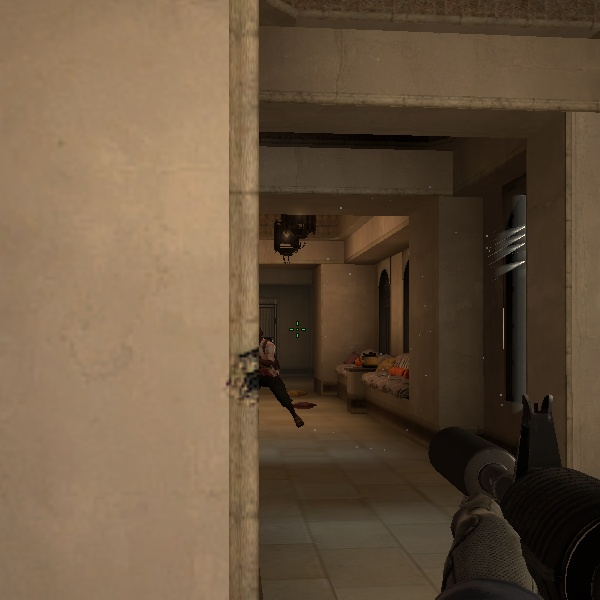t_body: (248, 329, 302, 429)
